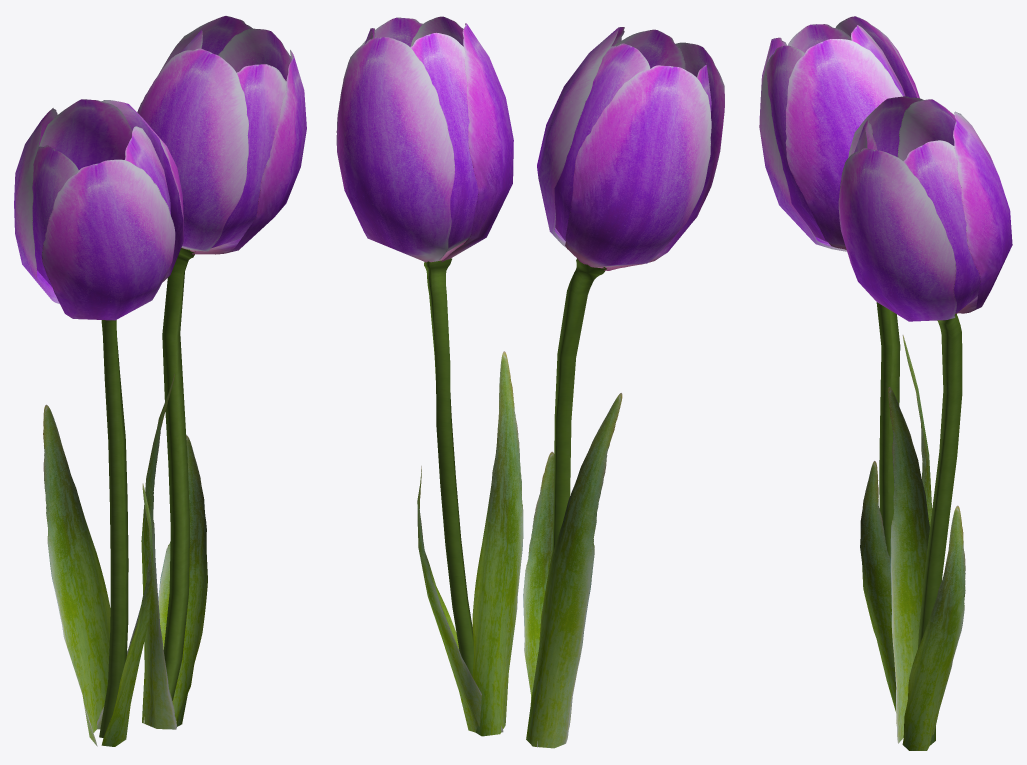
File: tulip_1_1.fbx
The picture shows the model from 3 angles, left to right: view 1: azimuth 30°, elevation 25°; view 2: azimuth 150°, elevation 25°; view 3: azimuth 270°, elevation 25°; orthographic projection. The views are drawn at different scales.
Parts seen in each view (by area): view 1: Cylinder.002, Cylinder.001; view 2: Cylinder.001, Cylinder.002; view 3: Cylinder.001, Cylinder.002.
Part boxes in pixels (left/top/right/bottom): Cylinder.002: left=14, top=99, right=183, bottom=746; Cylinder.001: left=137, top=16, right=306, bottom=729; Cylinder.001: left=336, top=16, right=523, bottom=736; Cylinder.002: left=523, top=27, right=724, bottom=748; Cylinder.001: left=838, top=96, right=1012, bottom=750; Cylinder.002: left=759, top=16, right=932, bottom=711.
Bounding box in the file's own units: 1064 × 2136 × 743.
